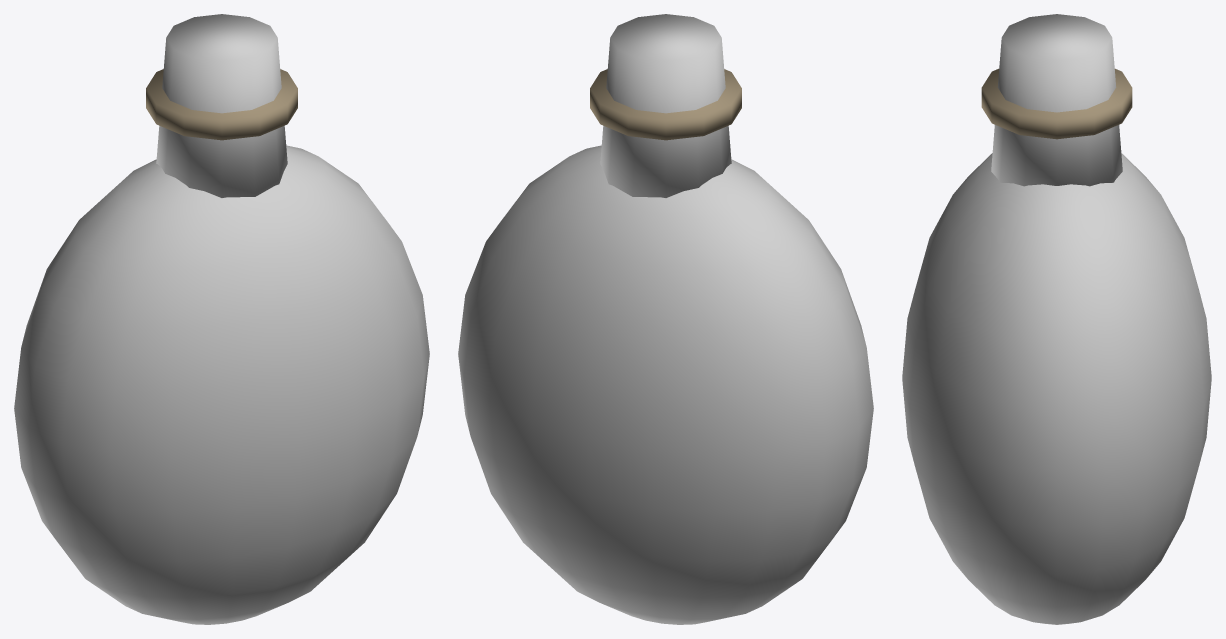
Rendered from SM_Item_waterskin_raw.gltf.
3 renders of one model, left to right at view 1: azimuth 30°, elevation 25°; view 2: azimuth 150°, elevation 25°; view 3: azimuth 270°, elevation 25°, orthographic.
Parts seen in each view (by area): view 1: SM_Item_waterskin_raw; view 2: SM_Item_waterskin_raw; view 3: SM_Item_waterskin_raw.
Part boxes in pixels (x1=…): SM_Item_waterskin_raw: x1=14, y1=14, x2=429, y2=624; SM_Item_waterskin_raw: x1=458, y1=14, x2=873, y2=624; SM_Item_waterskin_raw: x1=902, y1=14, x2=1211, y2=624.
Bounding box in the file's own units: 0.2 × 0.285 × 0.14.
